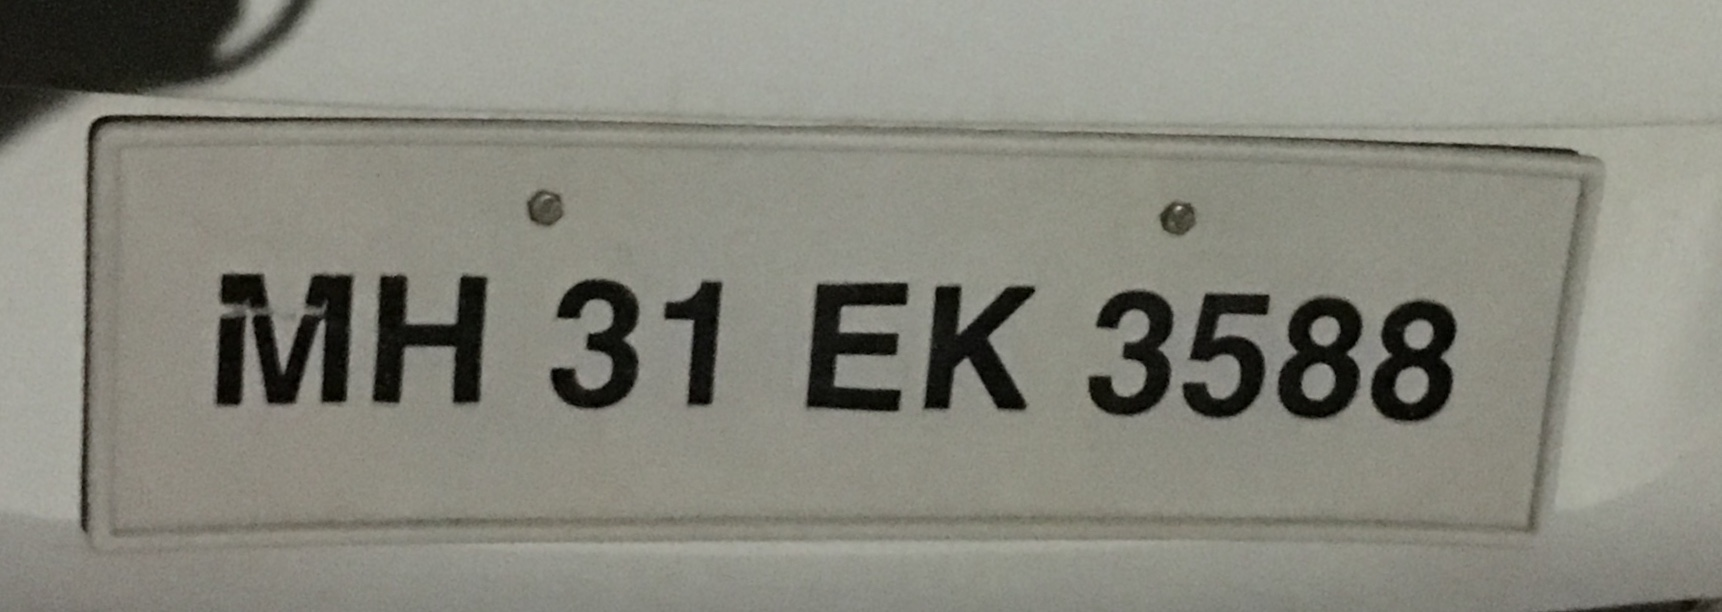numberplate: (80, 115, 1602, 557)
